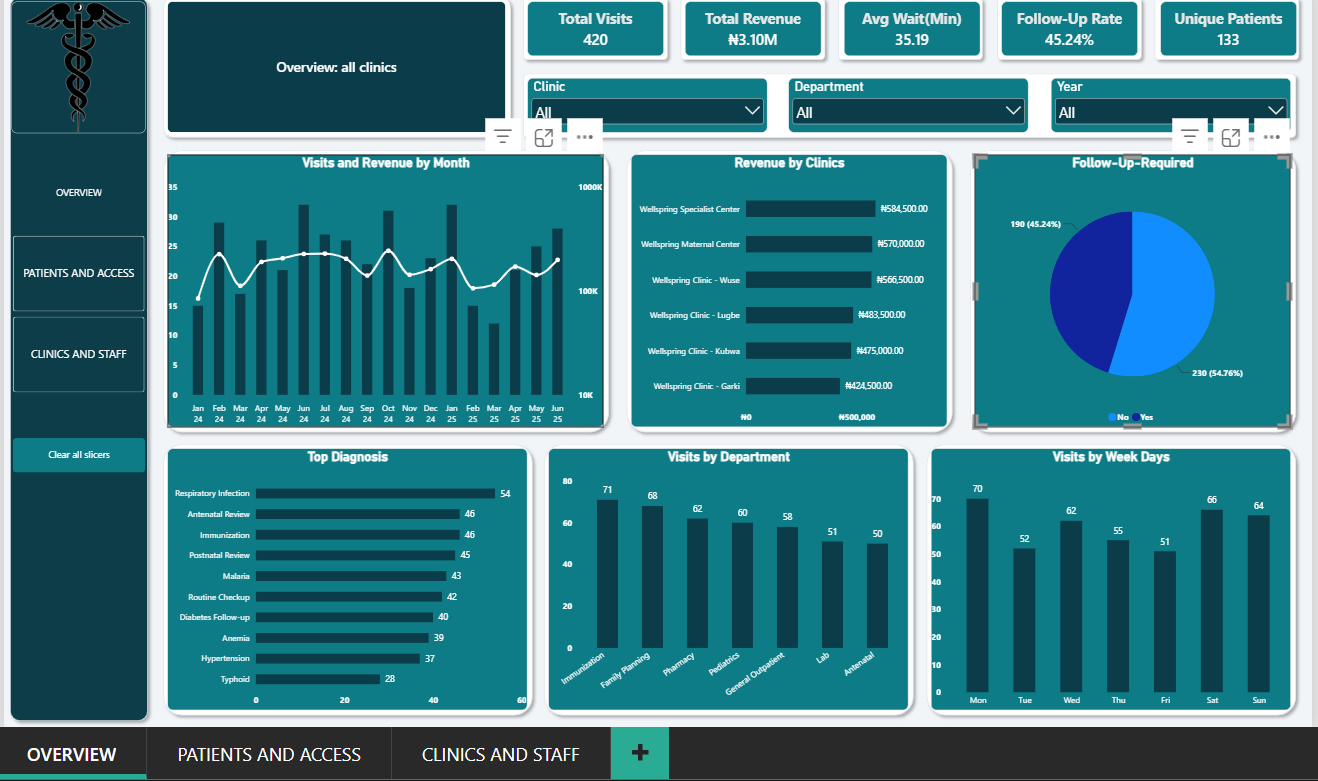

Layout of this report page (visuals, bound fields, positions):
{"tool":"powerbi","page":{"name":"OVERVIEW","canvas":[1920,1080],"ordinal":0},"visuals":[{"type":"shape","box":[0,0,220,1080],"z":0},{"type":"shape","box":[752,112,1152,112],"z":1000},{"type":"shape","box":[1216,0,230,110],"z":2000},{"type":"shape","box":[1680,0,230,110],"z":3000},{"type":"shape","box":[984,0,230,110],"z":4000},{"type":"shape","box":[224,0,528,224],"z":5000},{"type":"shape","box":[1448,0,230,110],"z":6000},{"type":"shape","box":[752,0,230,110],"z":7000},{"type":"shape","box":[224,224,672,432],"z":8000},{"type":"shape","box":[904,224,496,432],"z":9000},{"type":"shape","box":[1408,224,496,432],"z":10000},{"type":"shape","box":[224,656,560,416],"z":11000},{"type":"shape","box":[784,656,560,416],"z":12000},{"type":"shape","box":[1344,656,560,416],"z":13000},{"type":"cardVisual","fields":{"Data":["All  Measures.Overview Title"]},"box":[240,16,496,192],"z":14000},{"type":"cardVisual","fields":{"Data":["All  Measures.Total Visits"]},"box":[768,16,200,80],"z":15000},{"type":"cardVisual","fields":{"Data":["All  Measures.Total Revenue"]},"box":[1000,16,200,80],"z":16000},{"type":"cardVisual","fields":{"Data":["All  Measures.Avg Wait(Min)"]},"box":[1232,16,200,80],"z":17000},{"type":"cardVisual","fields":{"Data":["All  Measures.Follow-Up Rate"]},"box":[1464,16,200,80],"z":18000},{"type":"cardVisual","fields":{"Data":["All  Measures.Unique Patients"]},"box":[1696,16,200,80],"z":19000},{"type":"slicer","fields":{"Values":["visits.Department"]},"box":[1152,128,352,80],"z":20000},{"type":"slicer","fields":{"Values":["Calendar.Year"]},"box":[1536,128,352,80],"z":21000},{"type":"slicer","fields":{"Values":["clinics.ClinicName"]},"box":[768,128,352,80],"z":22000},{"type":"lineClusteredColumnComboChart","title":"Visits and Revenue by Month","fields":{"Y":["All  Measures.Total Visits"],"Y2":["All  Measures.Total Revenue"],"Category":["Calendar.MonthYear"]},"box":[240,240,640,400],"z":23000},{"type":"clusteredBarChart","title":"Revenue by Clinics","fields":{"Y":["All  Measures.Total Revenue"],"Category":["clinics.ClinicName"]},"box":[920,240,464,400],"z":24000},{"type":"pieChart","title":"Follow-Up-Required","fields":{"Category":["visits.FollowUpRequired"],"Y":["All  Measures.Total Visits"]},"box":[1424,240,464,400],"z":25000},{"type":"clusteredBarChart","title":"Top Diagnosis","fields":{"Y":["All  Measures.Total Visits"],"Category":["visits.Diagnosis"]},"box":[240,672,528,384],"z":26000},{"type":"clusteredColumnChart","title":"Visits by Department","fields":{"Category":["visits.Department"],"Y":["All  Measures.Total Visits"]},"box":[800,672,528,384],"z":27000},{"type":"clusteredColumnChart","title":"Visits by Week Days","fields":{"Category":["Calendar.Weekday"],"Y":["All  Measures.Total Visits"]},"box":[1360,672,528,384],"z":28000},{"type":"image","box":[11.6,14.4,196.4,193.5],"z":29000},{"type":"actionButton","box":[13.2,655.9,193.7,50.6],"z":30000},{"type":"pageNavigator","box":[13.2,239.9,193.7,350],"z":31000}]}

Visuals, with their boxes on the page's 1920x1080 design canvas (x1, y1, x2, y2). These are canvas units, not pixel positions in the 1318x781 screenshot, which may show the page scaled, cropped or inside an application window:
shape: (0,0,220,1080)
shape: (752,112,1904,224)
shape: (1216,0,1446,110)
shape: (1680,0,1910,110)
shape: (984,0,1214,110)
shape: (224,0,752,224)
shape: (1448,0,1678,110)
shape: (752,0,982,110)
shape: (224,224,896,656)
shape: (904,224,1400,656)
shape: (1408,224,1904,656)
shape: (224,656,784,1072)
shape: (784,656,1344,1072)
shape: (1344,656,1904,1072)
cardVisual - All  Measures.Overview Title: (240,16,736,208)
cardVisual - All  Measures.Total Visits: (768,16,968,96)
cardVisual - All  Measures.Total Revenue: (1000,16,1200,96)
cardVisual - All  Measures.Avg Wait(Min): (1232,16,1432,96)
cardVisual - All  Measures.Follow-Up Rate: (1464,16,1664,96)
cardVisual - All  Measures.Unique Patients: (1696,16,1896,96)
slicer - visits.Department: (1152,128,1504,208)
slicer - Calendar.Year: (1536,128,1888,208)
slicer - clinics.ClinicName: (768,128,1120,208)
"Visits and Revenue by Month" lineClusteredColumnComboChart: (240,240,880,640)
"Revenue by Clinics" clusteredBarChart: (920,240,1384,640)
"Follow-Up-Required" pieChart: (1424,240,1888,640)
"Top Diagnosis" clusteredBarChart: (240,672,768,1056)
"Visits by Department" clusteredColumnChart: (800,672,1328,1056)
"Visits by Week Days" clusteredColumnChart: (1360,672,1888,1056)
image: (12,14,208,208)
actionButton: (13,656,207,706)
pageNavigator: (13,240,207,590)
